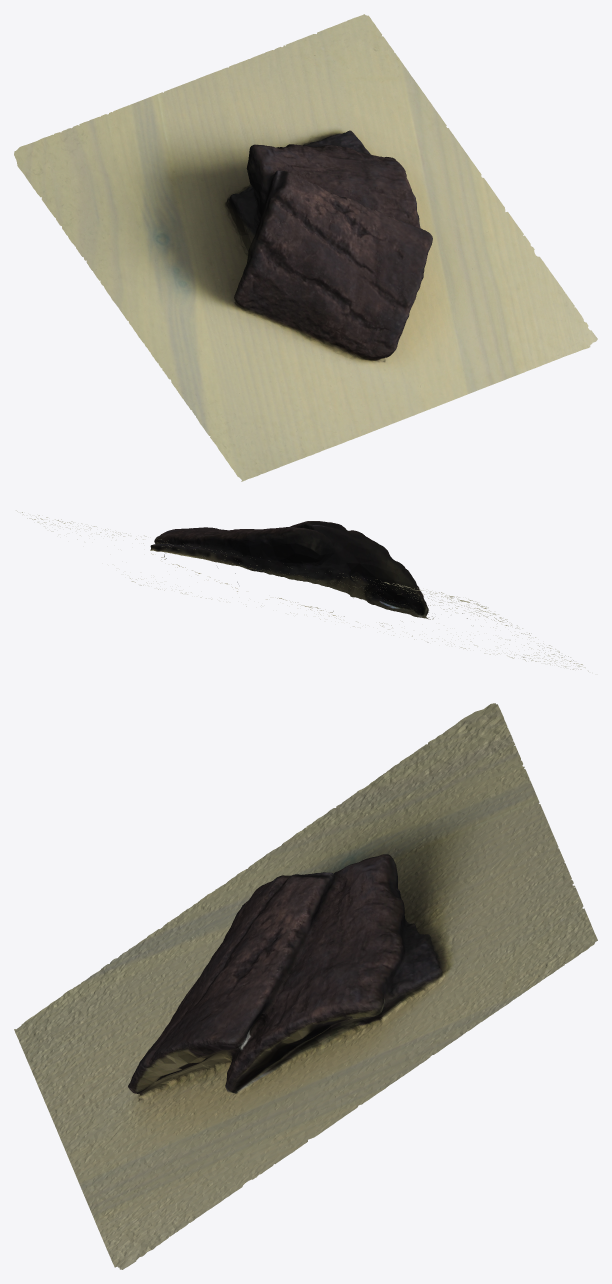
Rendered from duzhong.glb.
The picture shows the model from 3 angles, top to bottom: view 1: azimuth 30°, elevation 25°; view 2: azimuth 150°, elevation 25°; view 3: azimuth 270°, elevation 25°; orthographic projection. The views are drawn at different scales.
Bounding box in the file's own units: 2.31 × 1.12 × 1.9.
1 material, 1 textured.
